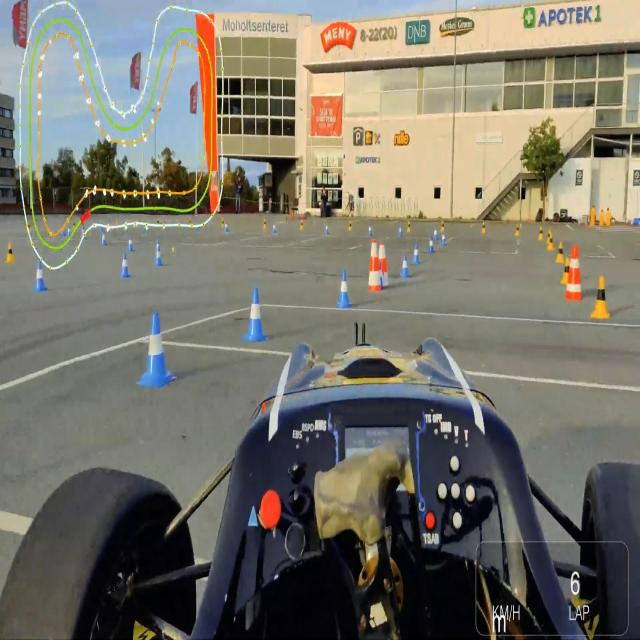blue_cone: (130, 306, 180, 395), (239, 284, 269, 346), (333, 267, 354, 310), (31, 257, 48, 295), (117, 251, 131, 279), (400, 253, 409, 279), (155, 245, 165, 268), (412, 242, 421, 266), (378, 260, 385, 289), (126, 236, 136, 253), (427, 235, 435, 255), (100, 230, 108, 248), (155, 241, 162, 260), (440, 232, 447, 247), (432, 228, 438, 242), (367, 223, 373, 236), (398, 226, 404, 238), (325, 223, 330, 237)
large_orange_cone: (564, 243, 584, 303), (367, 238, 382, 292), (377, 239, 392, 290)
yellow_cone: (590, 271, 614, 322), (4, 239, 17, 267), (561, 257, 571, 286), (556, 239, 566, 265), (546, 232, 554, 253), (538, 225, 544, 241), (514, 223, 521, 236), (547, 228, 552, 246), (481, 221, 487, 235), (406, 220, 412, 234), (440, 220, 445, 232), (348, 221, 353, 233)
